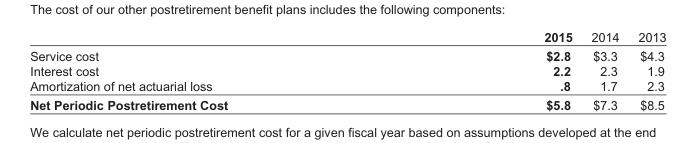table: (29, 29, 665, 112)
table column: (29, 29, 385, 112), (385, 29, 581, 112), (581, 29, 628, 112), (628, 29, 665, 112)
table column header: (29, 29, 665, 46)
table row: (29, 29, 665, 46), (29, 46, 665, 63), (29, 78, 665, 95), (29, 95, 665, 112), (29, 63, 665, 78)
